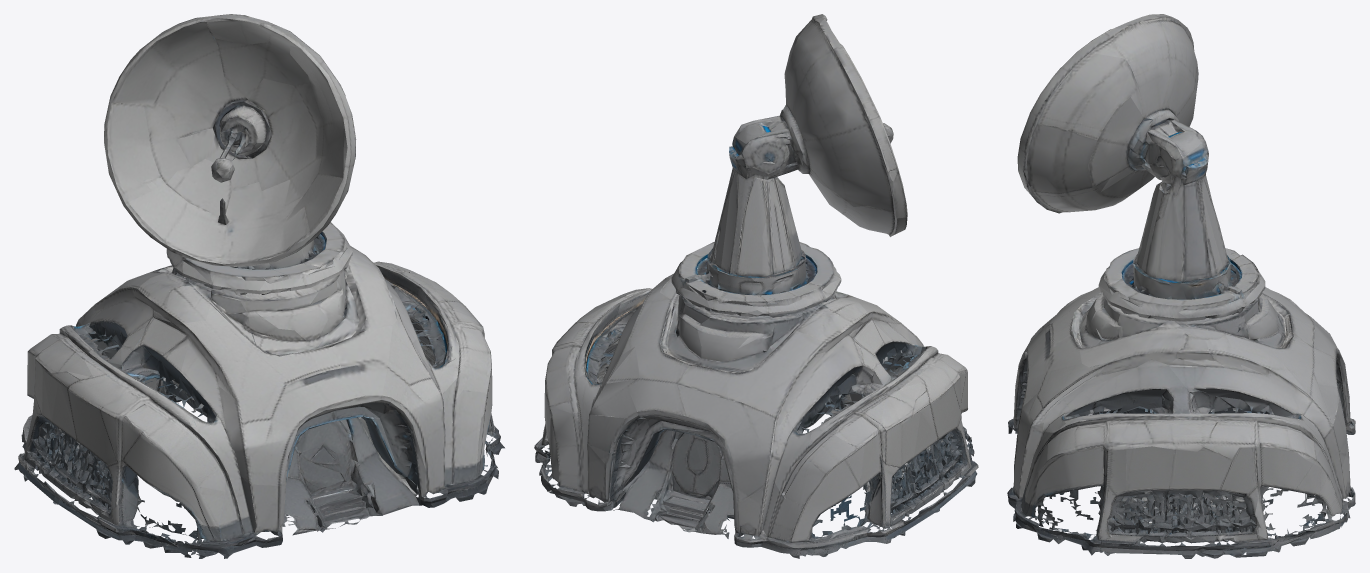
File: radar-dome.glb
The picture shows the model from 3 angles, left to right: view 1: azimuth 30°, elevation 25°; view 2: azimuth 150°, elevation 25°; view 3: azimuth 270°, elevation 25°; orthographic projection. The views are drawn at different scales.
Parts seen in each view (by area): view 1: mesh_node; view 2: mesh_node; view 3: mesh_node.
Boxes of the visible parts, x1,y1,x2,y2 form: mesh_node: [14, 14, 504, 558]; mesh_node: [534, 14, 978, 558]; mesh_node: [1007, 14, 1355, 558].
Bounding box in the file's own units: 1.7 × 1.9 × 1.4.
Materials: 1 (1 with a texture image).
